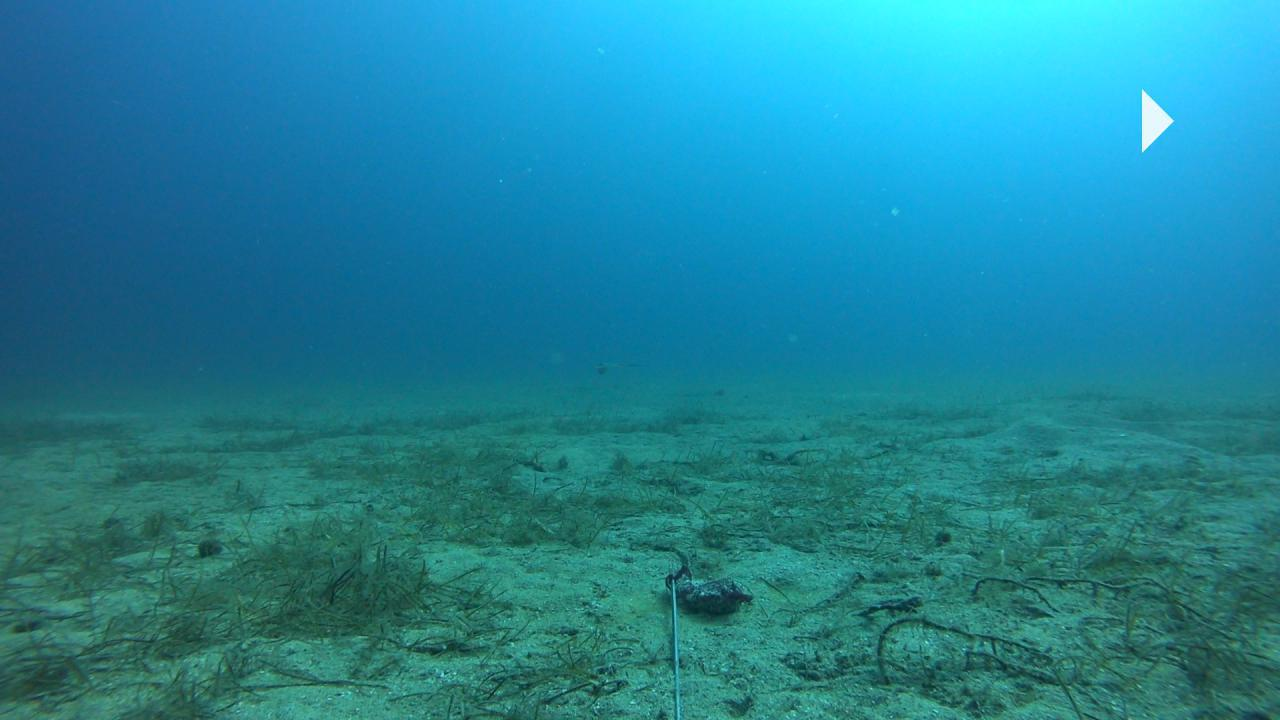dasyatis: (594, 359, 648, 375)
